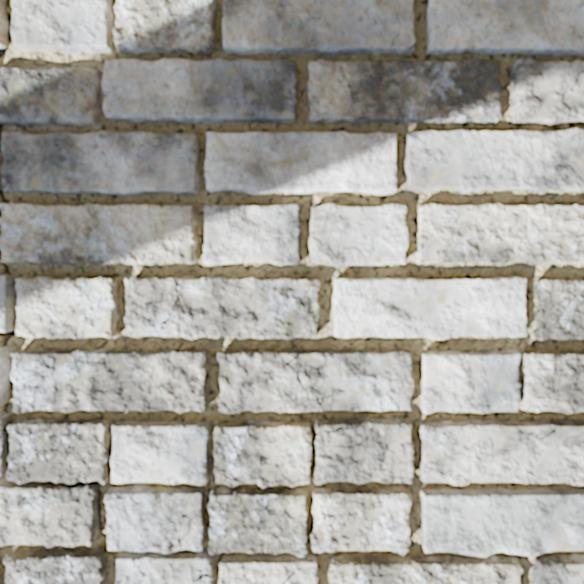brick: (0, 413, 209, 583), (105, 420, 317, 583), (311, 486, 583, 583), (0, 131, 198, 195), (308, 59, 500, 124), (13, 349, 210, 412), (102, 59, 297, 122), (218, 350, 412, 412), (205, 132, 396, 194), (125, 277, 318, 338), (0, 204, 196, 264), (333, 277, 525, 338), (404, 128, 583, 192), (11, 0, 216, 53), (420, 418, 583, 484), (223, 0, 414, 55), (416, 204, 583, 264), (421, 351, 583, 412), (427, 0, 583, 55), (0, 275, 117, 337), (314, 418, 412, 483), (309, 204, 407, 265), (204, 205, 300, 264), (510, 58, 583, 124), (534, 279, 583, 339), (532, 555, 583, 583), (0, 348, 13, 404), (0, 0, 7, 46), (11, 352, 18, 369), (195, 578, 212, 583)
broken_brick: (0, 64, 101, 127)
crack: (160, 277, 195, 330), (555, 353, 577, 391), (315, 436, 369, 450), (0, 0, 12, 58), (316, 421, 360, 435), (97, 488, 108, 538), (9, 351, 23, 388), (340, 60, 353, 99), (190, 567, 214, 583), (0, 330, 15, 347), (0, 258, 11, 276), (282, 568, 295, 583), (0, 187, 6, 218), (0, 401, 9, 413), (409, 43, 415, 50), (0, 439, 5, 444), (0, 123, 2, 131)
